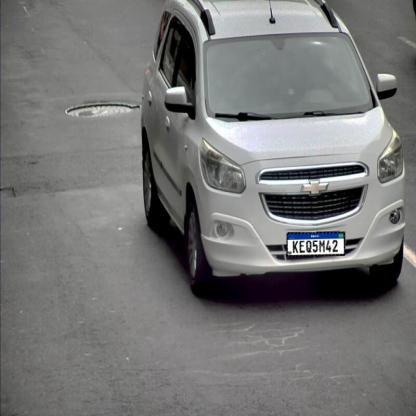PlacaM: (286, 232, 346, 256)
